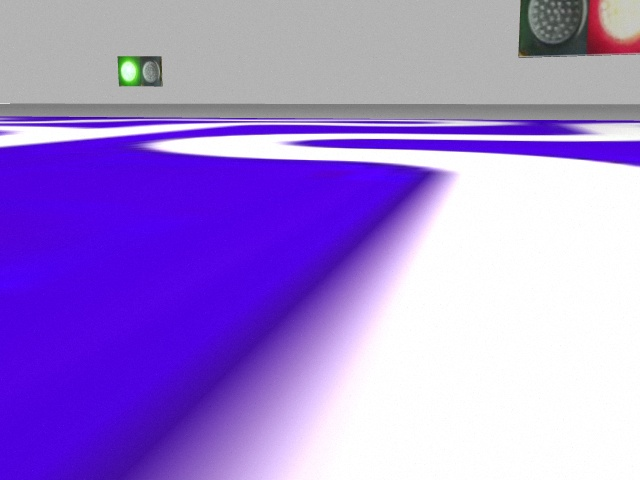red: (588, 1, 640, 52)
